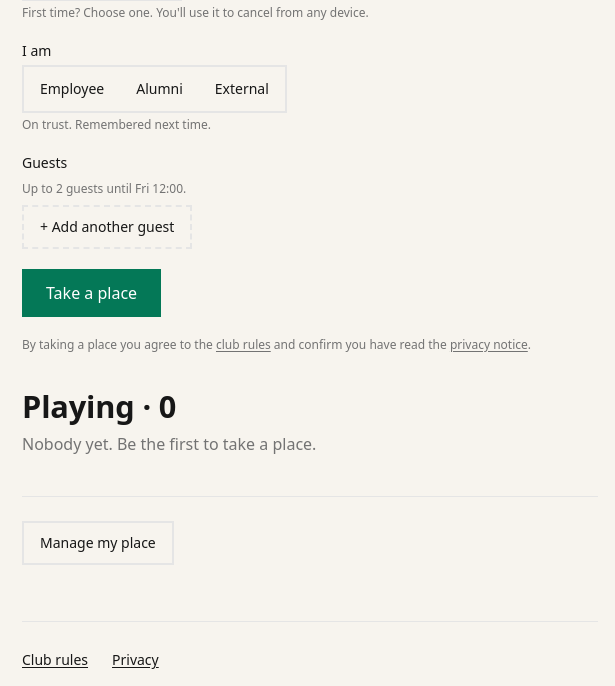
SessionPage Manage my place › puts the signup form first and keeps Manage collapsed until asked
(page scrolled)
Step 1. Click the button "Manage my place" → (98, 544), box x1=22 y1=522 x2=174 y2=566
(page scrolled)
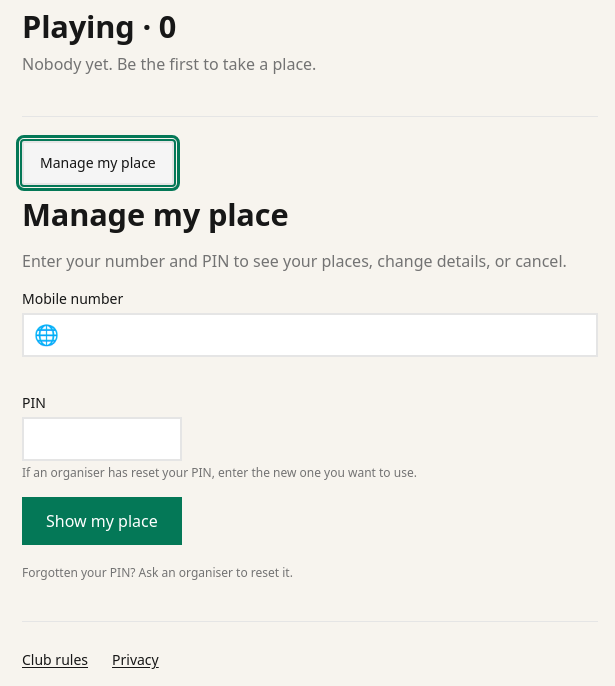
Expected: the button "Manage my place" is expanded, x1=22 y1=142 x2=174 y2=186
Expected: the text "Forgotten your PIN? Ask an organiser to reset it." is shown, x1=22 y1=564 x2=293 y2=581
